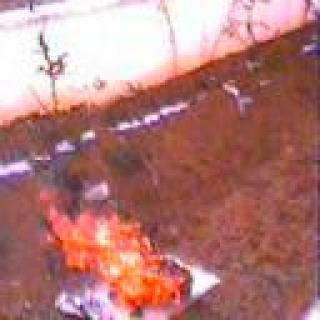fire: (29, 176, 195, 320)
